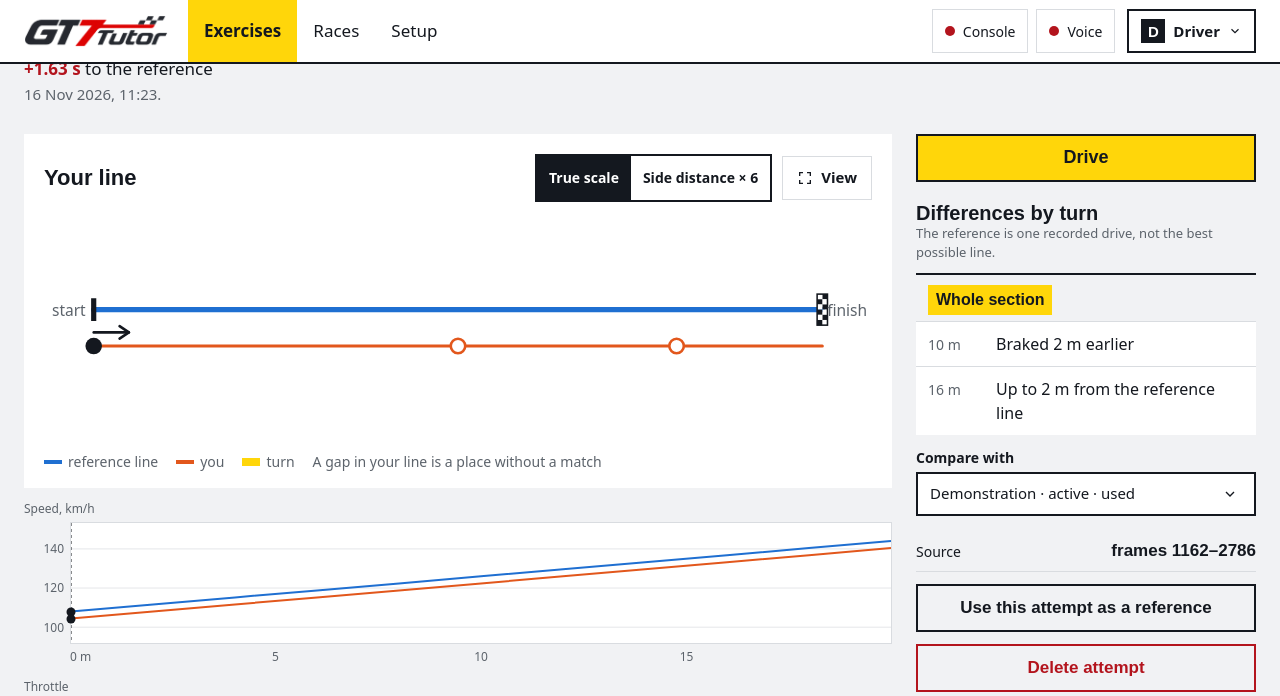
it: attempt review › selecting_a_difference_moves_the_cursor
(page scrolled)
Click the button "16 m Up to 2 m from the reference line" at coordinates (1086, 400), box [916,366,1256,435]
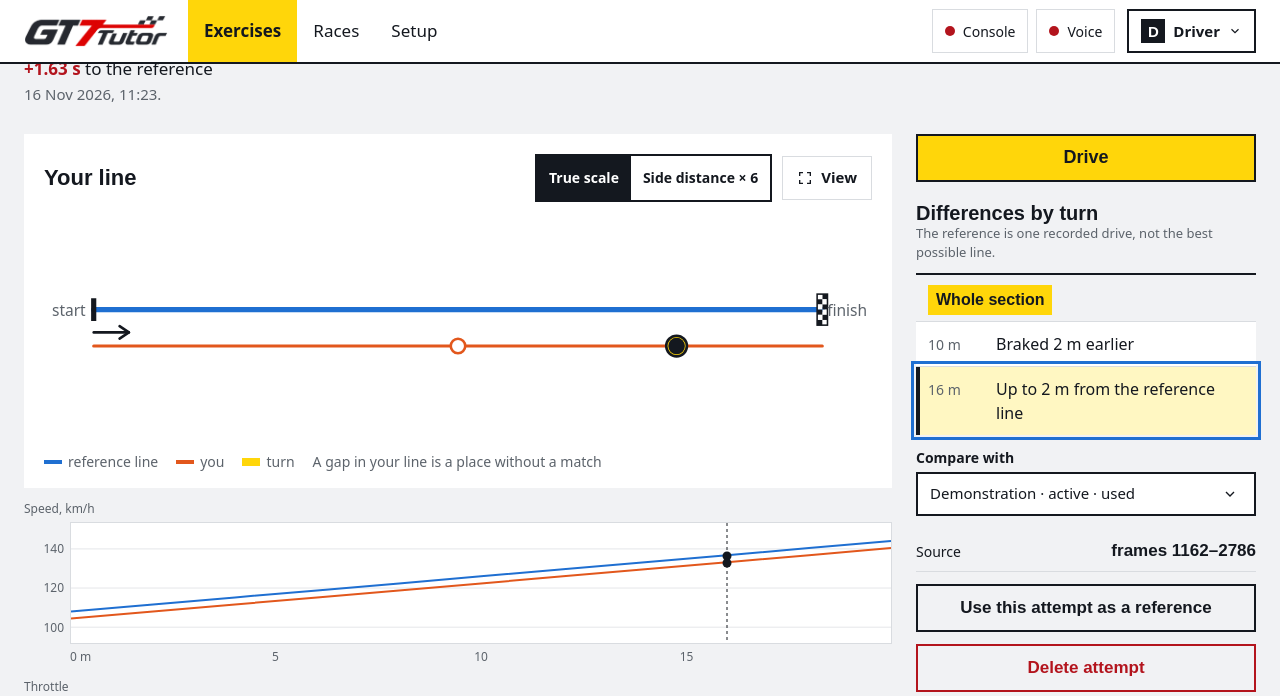
Expected: the button "16 m Up to 2 m from the reference line" is pressed, [916,366,1256,435]
Expected: the slider next to "120" has attribute aria-valuenow="16", [70,522,892,644]
